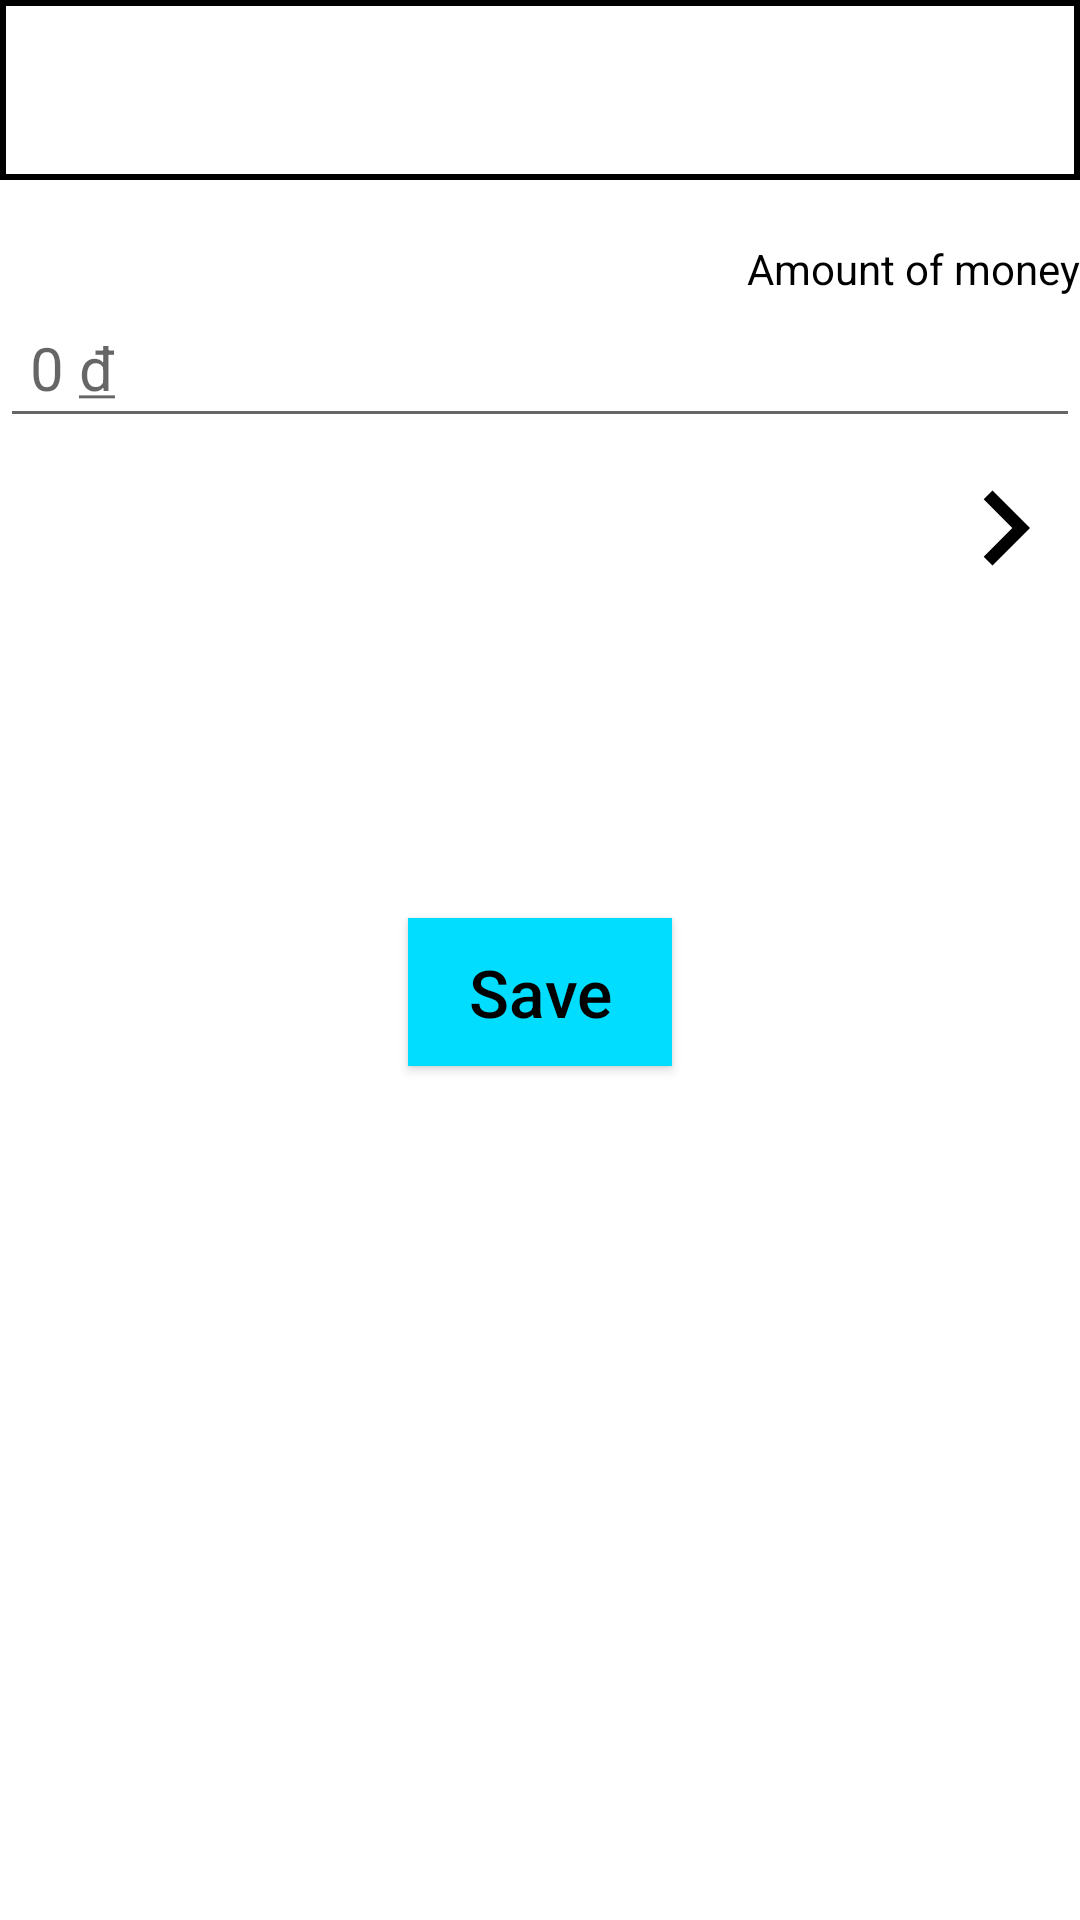

Where to tap for icons on this 1080 x 1920 app screen, as (x,y):
navigate next: (1007,528)
